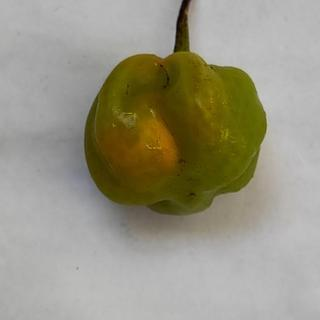Fly-bites: (183, 185, 204, 205), (170, 152, 192, 170)
striped: (156, 61, 173, 90)
